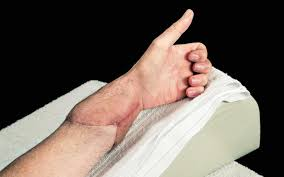hand: (118, 5, 239, 114)
